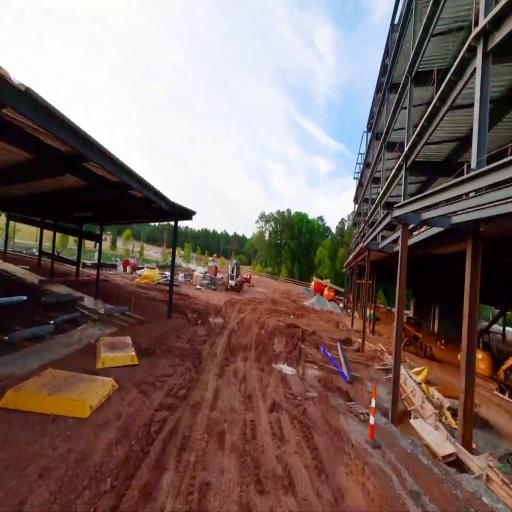uav: (320, 338, 352, 388)
